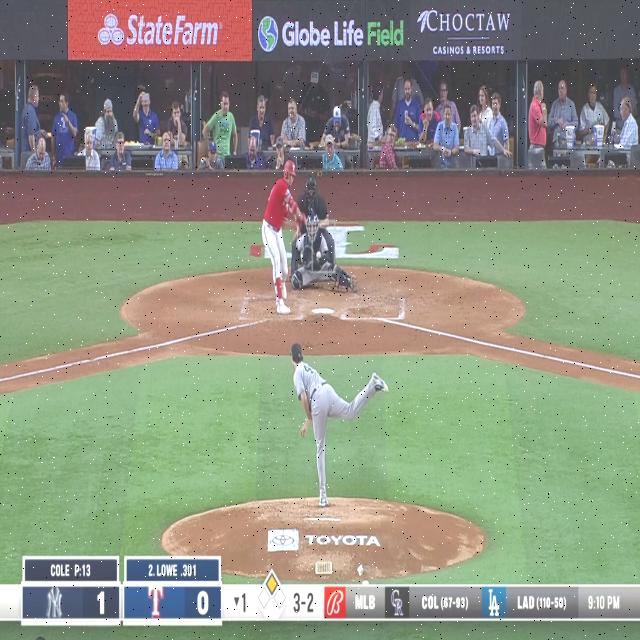baseball: (316, 250, 321, 259)
